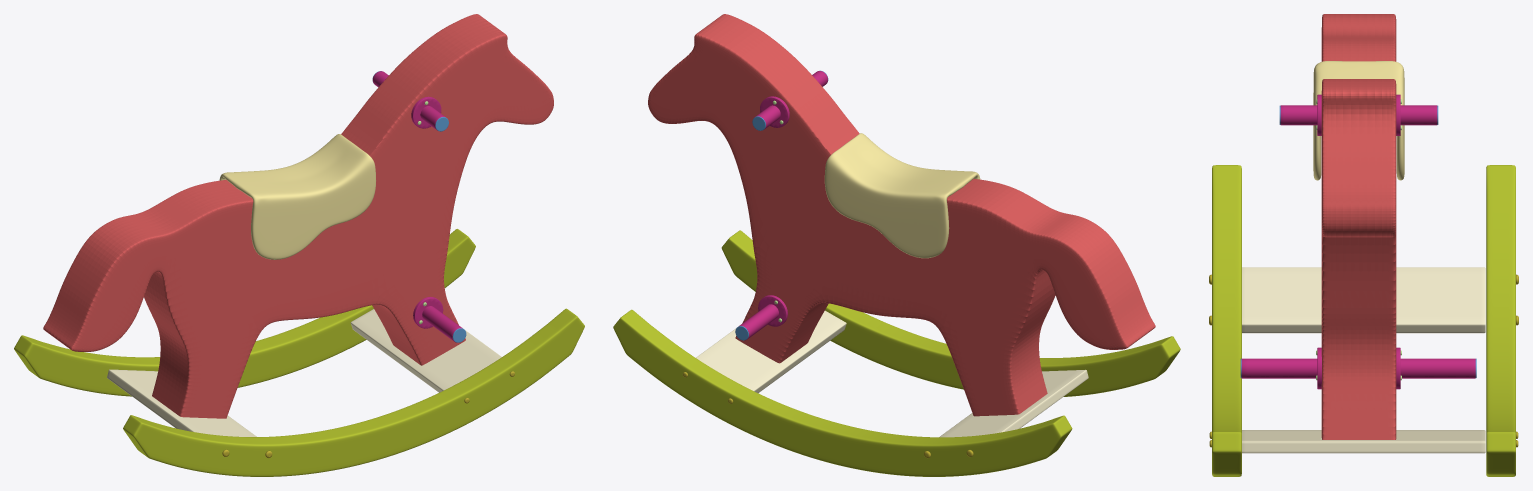
The model's file is HorseDollModel.fbx.
3 views of the same model, side by side, from view 1: azimuth 30°, elevation 25°; view 2: azimuth 150°, elevation 25°; view 3: azimuth 270°, elevation 25° (orthographic). The views are drawn at different scales.
Visible parts, largest first — view 1: лошадка-качалка; view 2: лошадка-качалка; view 3: лошадка-качалка.
Part boxes in pixels (left/top/right/bottom): лошадка-качалка: left=14, top=14, right=584, bottom=476; лошадка-качалка: left=613, top=14, right=1180, bottom=476; лошадка-качалка: left=1209, top=14, right=1518, bottom=476.
Bounding box in the file's own units: 0.86 × 0.38 × 0.6.
